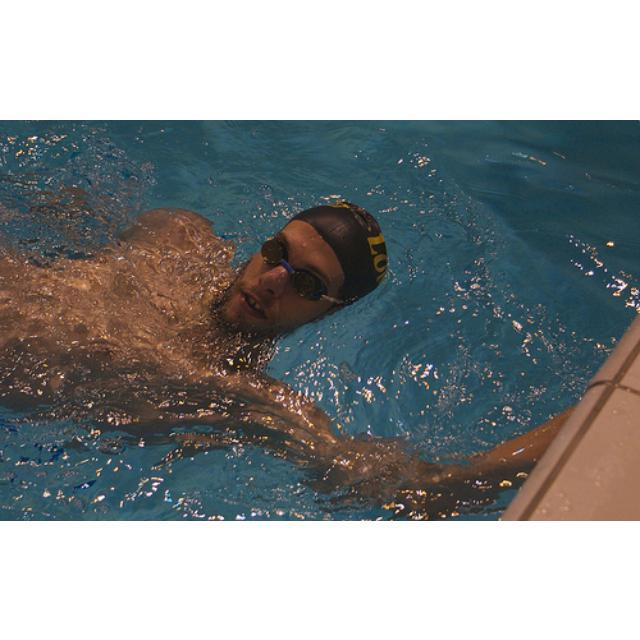human: (1, 189, 573, 515)
